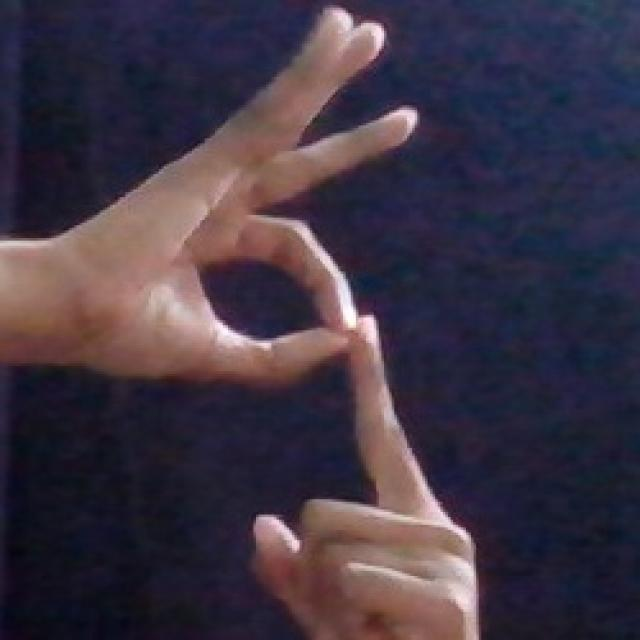Alphabet-P: (78, 6, 486, 640)
